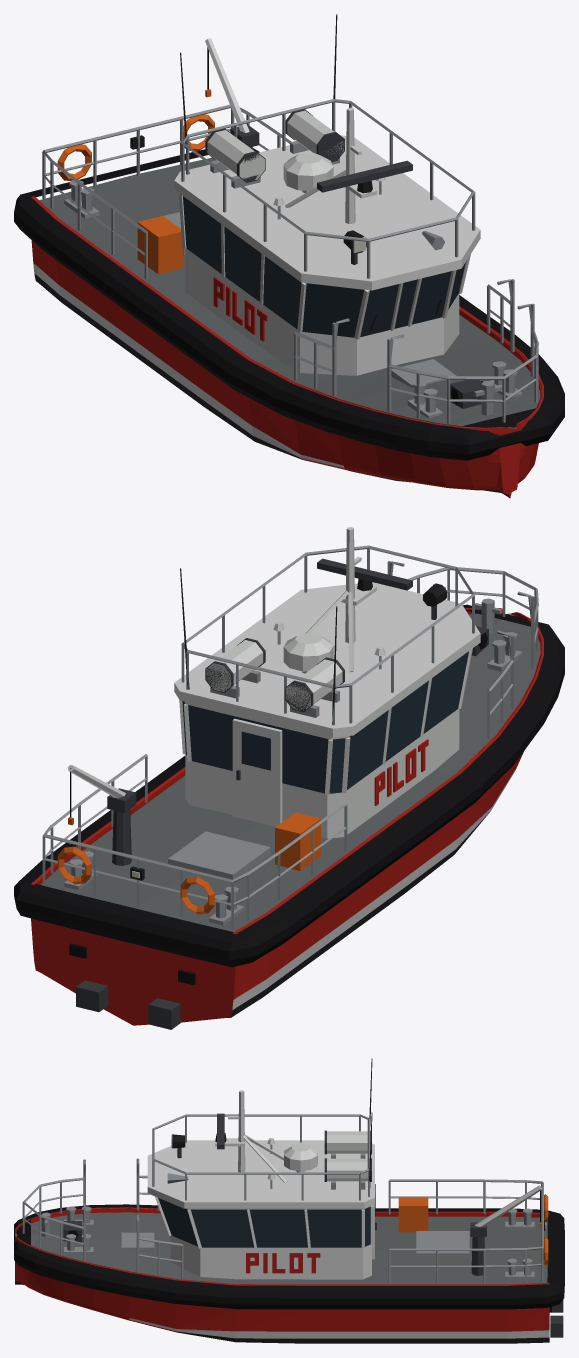
Rendered from pilot_mid.glb.
The picture shows the model from 3 angles, top to bottom: view 1: azimuth 30°, elevation 25°; view 2: azimuth 150°, elevation 25°; view 3: azimuth 270°, elevation 25°; orthographic projection. The views are drawn at different scales.
Visible parts, largest first — view 1: fixed, hull, glass, trim; view 2: fixed, hull, glass, trim; view 3: fixed, hull, glass, trim.
Boxes of the visible parts, x1,y1,x2,y2 form: fixed: [14, 14, 564, 497]; hull: [30, 196, 543, 497]; glass: [183, 196, 465, 337]; trim: [213, 277, 534, 462]; fixed: [14, 527, 564, 1029]; hull: [30, 608, 543, 1025]; glass: [182, 651, 468, 793]; trim: [235, 739, 428, 969]; fixed: [14, 1058, 564, 1343]; hull: [15, 1207, 549, 1332]; glass: [158, 1184, 375, 1247]; trim: [94, 1253, 549, 1310].
Bounding box in the file's own units: 3.48 × 4.66 × 9.31.
